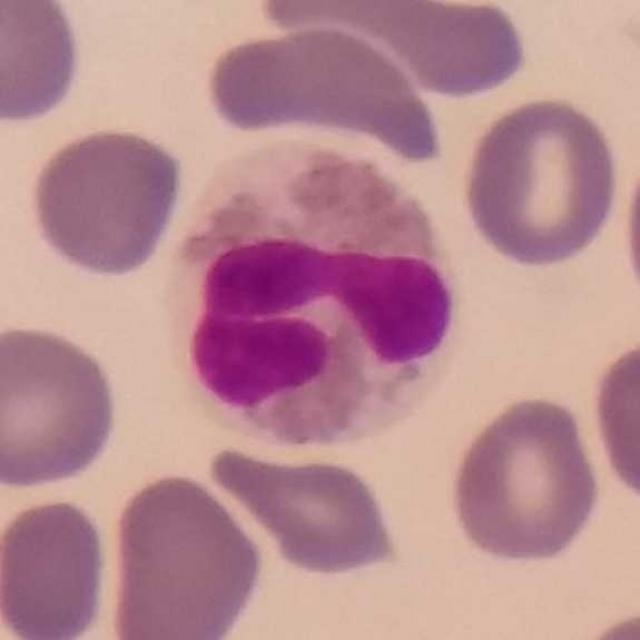Eosinophil: (178, 135, 452, 444)
RBC: (200, 17, 446, 168), (458, 91, 624, 272), (443, 390, 605, 568), (101, 467, 267, 640), (249, 0, 529, 101), (207, 441, 405, 581), (23, 121, 188, 283), (0, 320, 124, 494), (0, 493, 114, 640), (0, 0, 87, 129), (586, 333, 640, 511), (617, 138, 640, 325), (562, 603, 640, 640)
